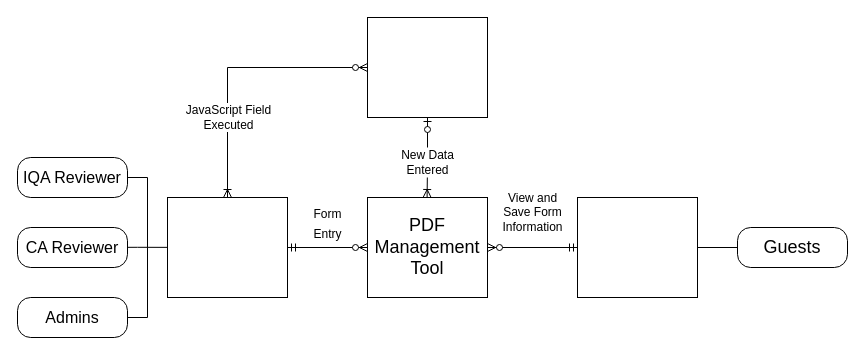
Image size: 865x355. Some labels were removed from this diagram. Each missing label, with the centre of its shape:
"Compiler" belongs at (x=427, y=67).
"External Users" belongs at (x=637, y=247).
"Reviewer" belongs at (x=227, y=247).
